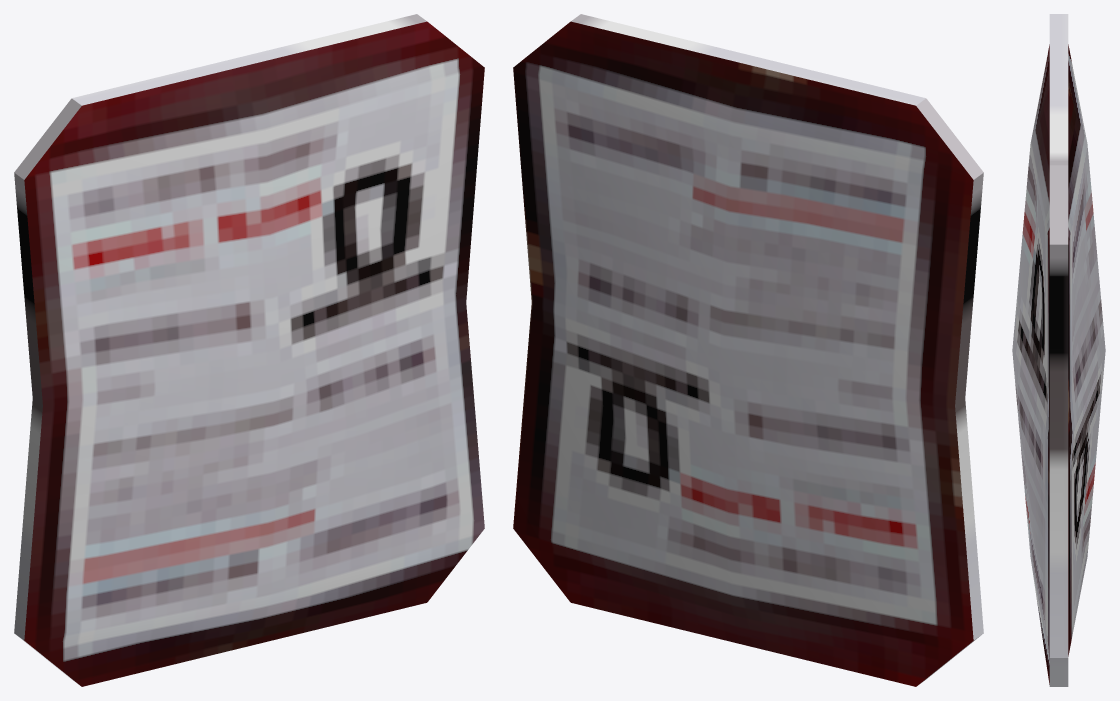
The model's file is bloodpack.fbx.
3 views of the same model, side by side, from view 1: azimuth 30°, elevation 25°; view 2: azimuth 150°, elevation 25°; view 3: azimuth 270°, elevation 25° (orthographic). The views are drawn at different scales.
Parts seen in each view (by area): view 1: MSH_BloodPack; view 2: MSH_BloodPack; view 3: MSH_BloodPack.
Part boxes in pixels (x1,y1,x2,y2): MSH_BloodPack: [14, 14, 484, 686]; MSH_BloodPack: [513, 14, 983, 686]; MSH_BloodPack: [1012, 14, 1105, 686].
Bounding box in the file's own units: 1.25 × 1.51 × 0.2449.
